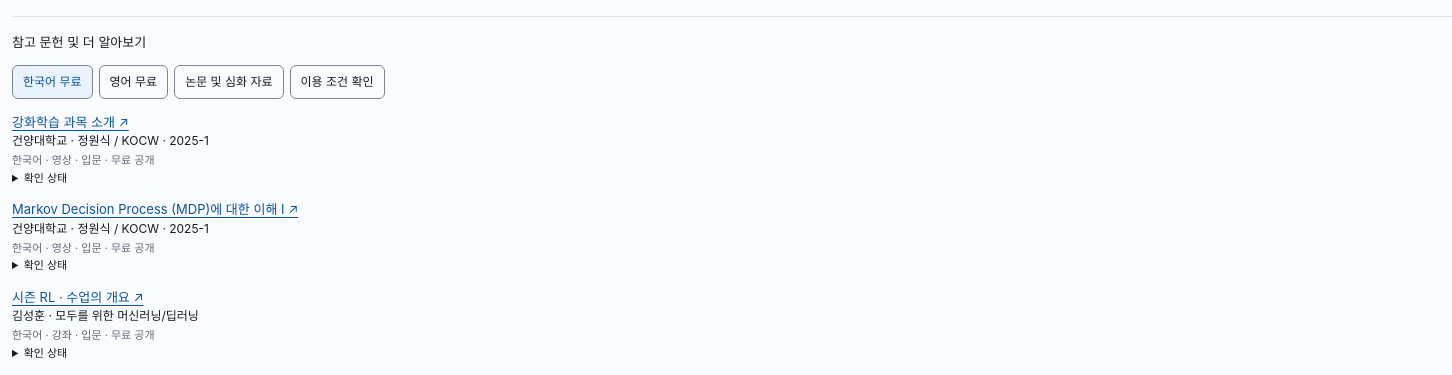
labels expired K-MOOC availability separately and never advertises the publisher book as free
This screenshot has width=1452, height=375.
Click the button "이용 조건 확인" at (337, 82), box [290,64,384,98]
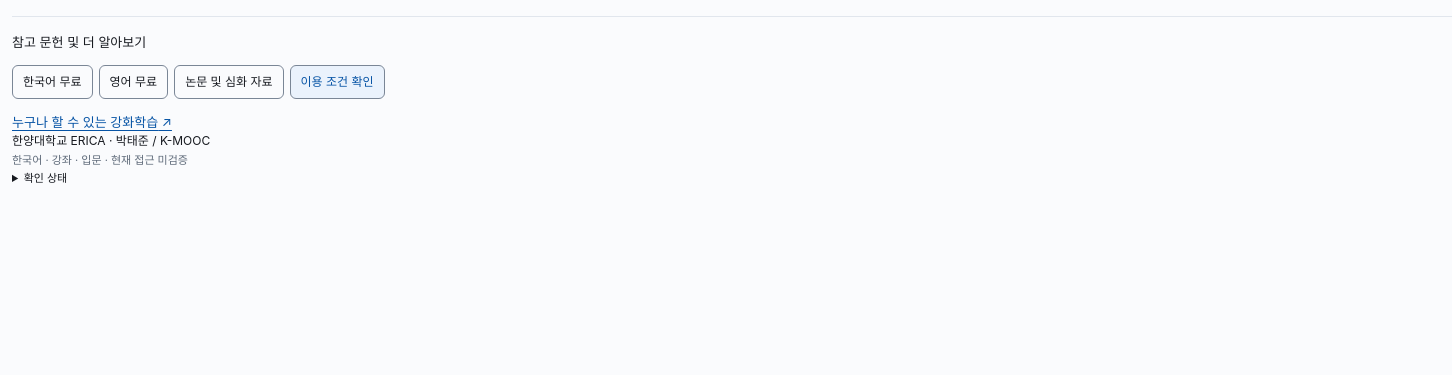
Now the link "누구나 할 수 있는 강화학습 ↗" is shown, box [12,114,172,130]
Now the text "한국어 · 강좌 · 입문 · 현재 접근 미검증" is shown, box [12,153,188,167]
